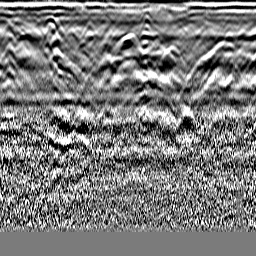cavity: (117, 30, 138, 52)
